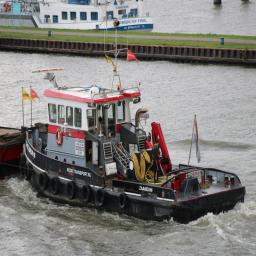tugboat: (21, 64, 249, 230)
